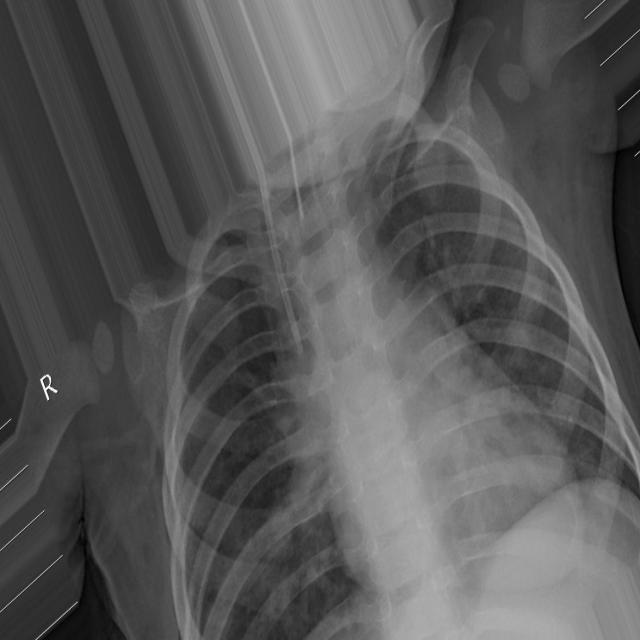bacterial_pneumonia: (5, 0, 640, 640)
